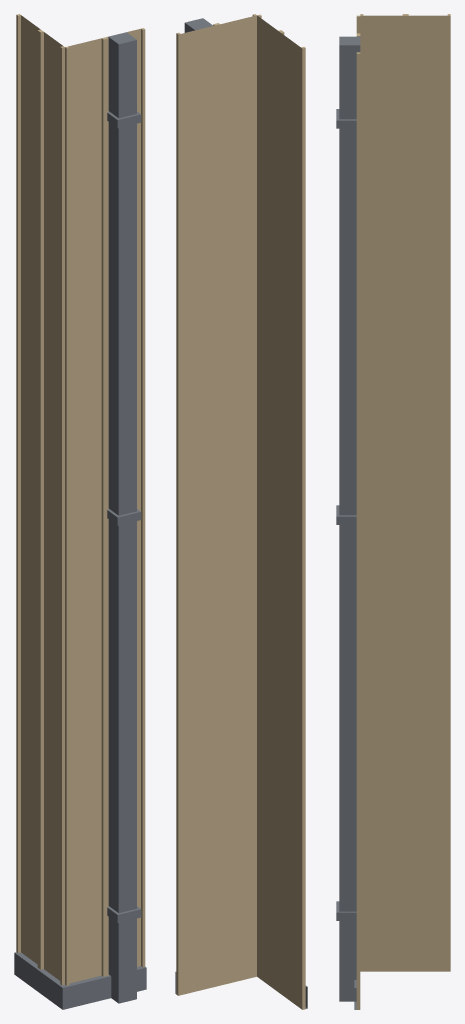
File: mid-c1_close.fbx
The picture shows the model from 3 angles, left to right: view 1: azimuth 30°, elevation 25°; view 2: azimuth 210°, elevation 25°; view 3: azimuth 270°, elevation 25°; orthographic projection.
Parts seen in each view (by area): view 1: a2000/800/mid-c1_close; view 2: a2000/800/mid-c1_close; view 3: a2000/800/mid-c1_close.
Part boxes in pixels (bbox=[...]): a2000/800/mid-c1_close: bbox=[14, 14, 146, 1009]; a2000/800/mid-c1_close: bbox=[175, 14, 307, 1009]; a2000/800/mid-c1_close: bbox=[336, 14, 450, 1009].
Size of the model in its own units: 0.32 by 3.5 by 0.38.
